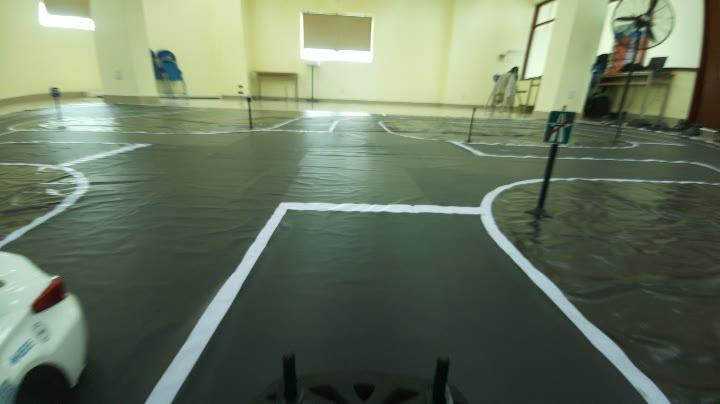highway_exit: (535, 102, 582, 152)
